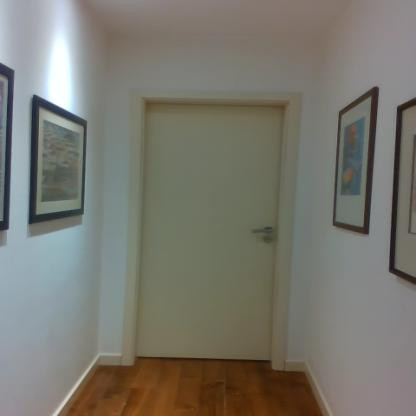closed: (124, 80, 310, 376)
